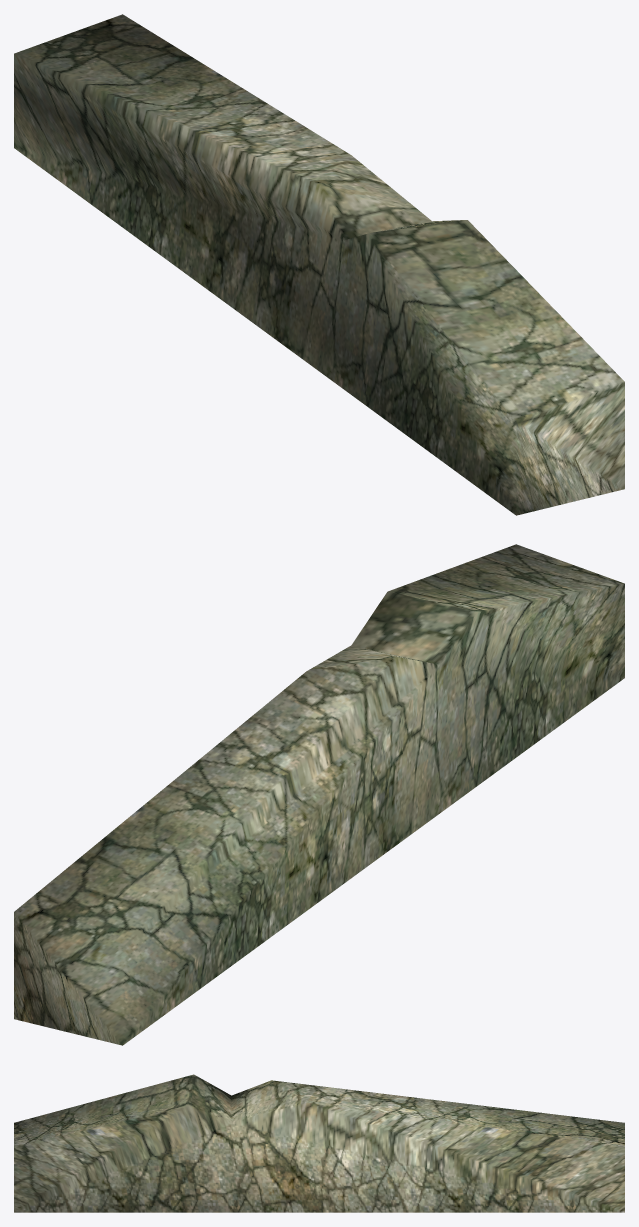
The model's file is thm_nboo_gungan_wall_ruined_sm_s02_l2.fbx.
3 renders of one model, top to bottom at view 1: azimuth 30°, elevation 25°; view 2: azimuth 150°, elevation 25°; view 3: azimuth 270°, elevation 25°, orthographic. The views are drawn at different scales.
Parts seen in each view (by area): view 1: mesh_node; view 2: mesh_node; view 3: mesh_node.
Part boxes in pixels (bbox=[...]): mesh_node: bbox=[14, 14, 624, 515]; mesh_node: bbox=[14, 544, 624, 1045]; mesh_node: bbox=[14, 1074, 624, 1212].
Bounding box in the file's own units: 0.5002 × 0.7643 × 4.
